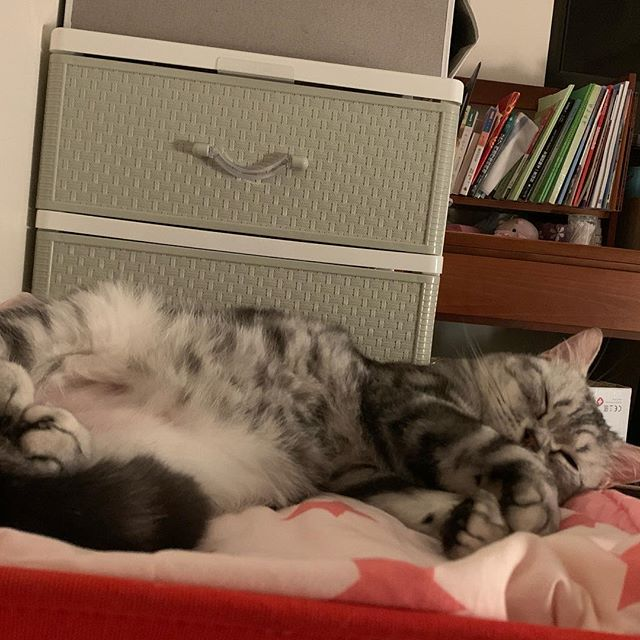cat: (474, 324, 638, 511)
